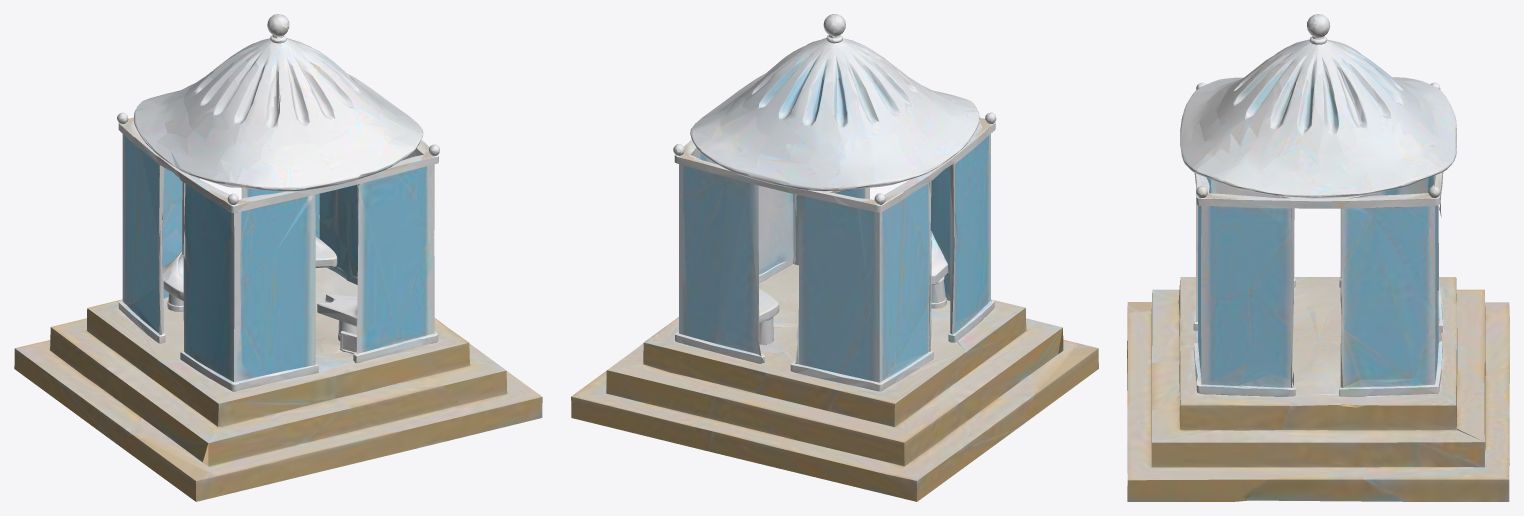
The model's file is lm_arts_pavilion.glb.
3 views of the same model, side by side, from view 1: azimuth 30°, elevation 25°; view 2: azimuth 150°, elevation 25°; view 3: azimuth 270°, elevation 25° (orthographic). The views are drawn at different scales.
Size of the model in its own units: 1.82 by 1.9 by 1.66.
1 material, 1 textured.
